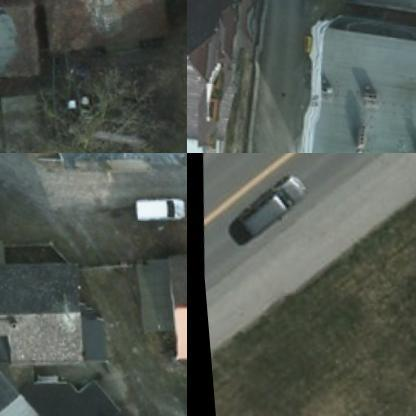car: (228, 168, 308, 248), (128, 197, 182, 230)
